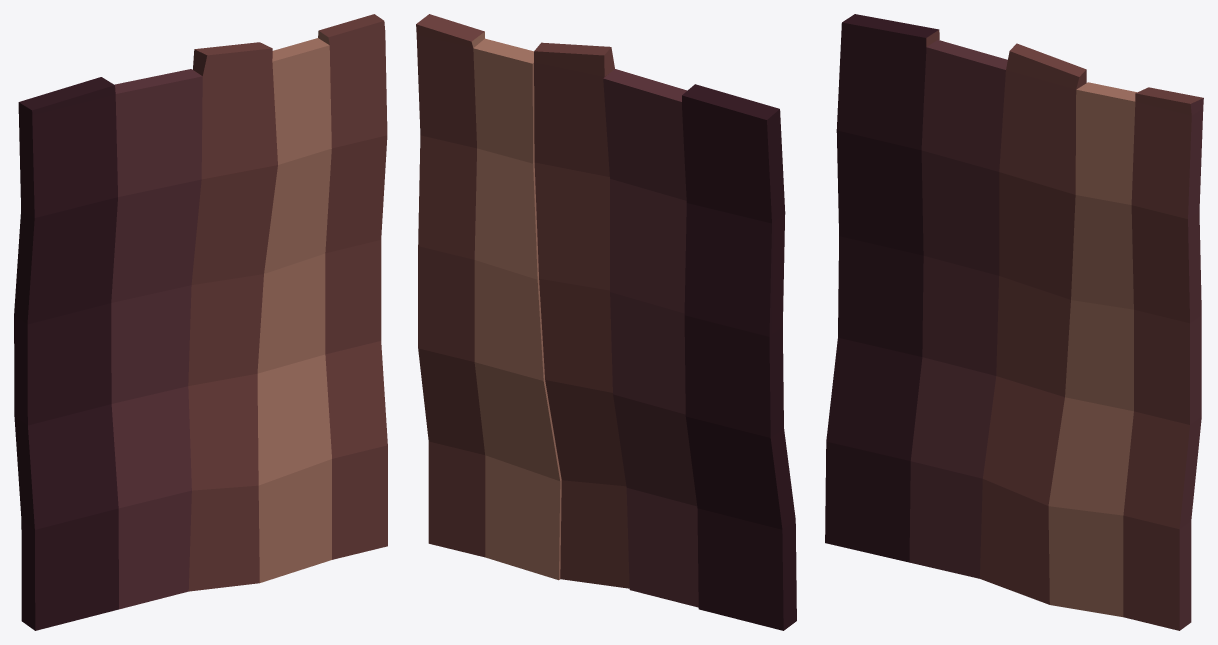
Rendered from Plank.fbx.
The picture shows the model from 3 angles, left to right: view 1: azimuth 30°, elevation 25°; view 2: azimuth 150°, elevation 25°; view 3: azimuth 330°, elevation 25°; orthographic projection.
Visible parts, largest first — view 1: Plank; view 2: Plank; view 3: Plank.
Part boxes in pixels (x1,y1,x2,y2): Plank: (14, 14, 387, 630); Plank: (416, 14, 796, 630); Plank: (825, 14, 1203, 630).
Size of the model in its own units: 3.58 by 5.11 by 0.4327.
